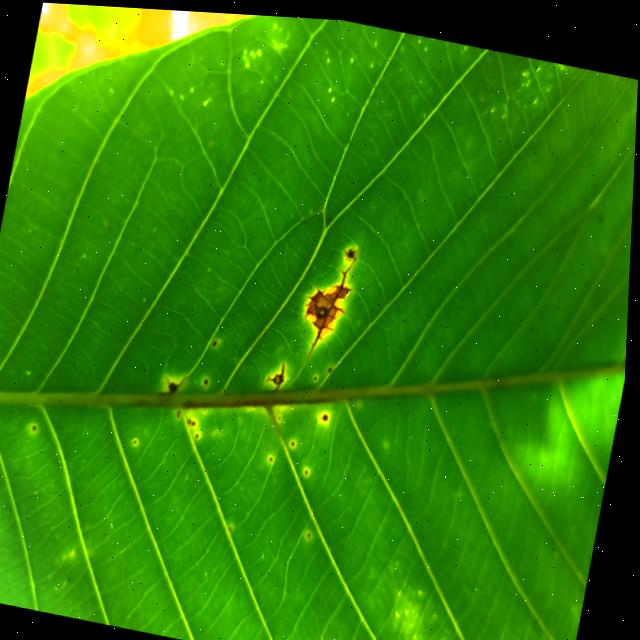Colletotrichum: (325, 410, 331, 417), (294, 436, 299, 443), (214, 338, 219, 344), (330, 363, 335, 368), (307, 466, 312, 471), (206, 376, 211, 381), (315, 372, 320, 376), (272, 453, 276, 458)
Corynespora: (296, 233, 362, 362), (266, 357, 289, 390), (343, 240, 359, 261)
